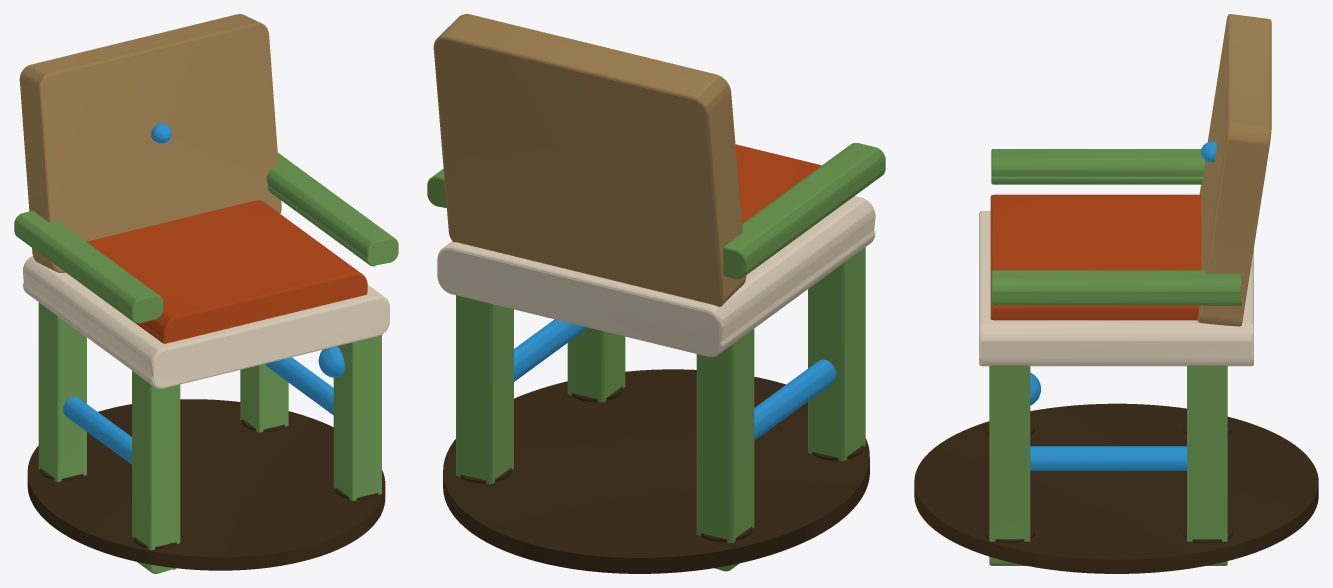
File: 0946_农业科技图鉴_燕窝果.glb
3 renders of one model, left to right at view 1: azimuth 30°, elevation 25°; view 2: azimuth 150°, elevation 25°; view 3: azimuth 270°, elevation 25°, orthographic. The views are drawn at different scales.
Parts seen in each view (by area): view 1: card_0946; view 2: card_0946; view 3: card_0946.
Boxes of the visible parts, x1,y1,x2,y2 form: card_0946: (14, 14, 398, 573); card_0946: (427, 14, 885, 573); card_0946: (914, 14, 1318, 573).
Size of the model in its own units: 0.76 by 1 by 0.8318.
